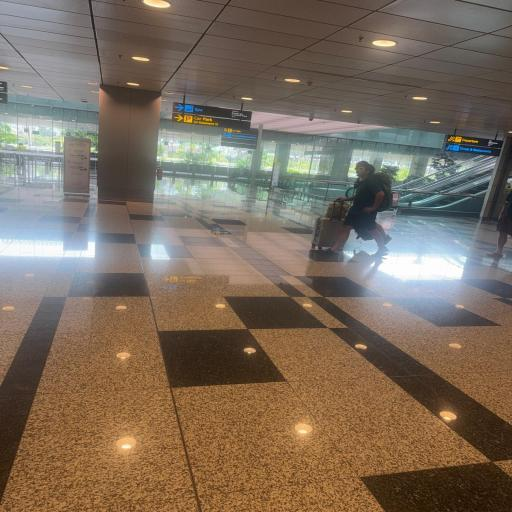person_left: (485, 191, 512, 257)
person_with_luggage_left: (322, 160, 394, 256)
